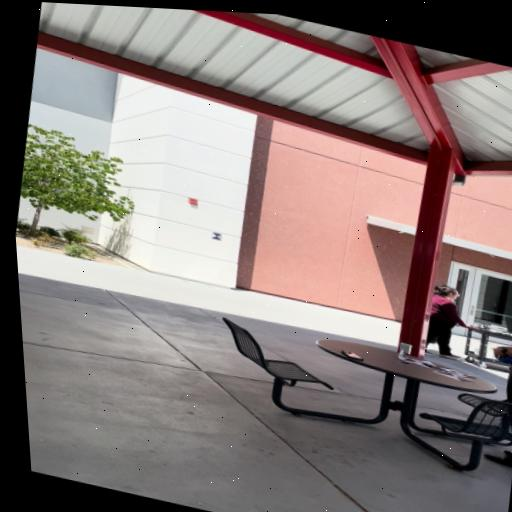target6: (210, 232, 224, 240)
